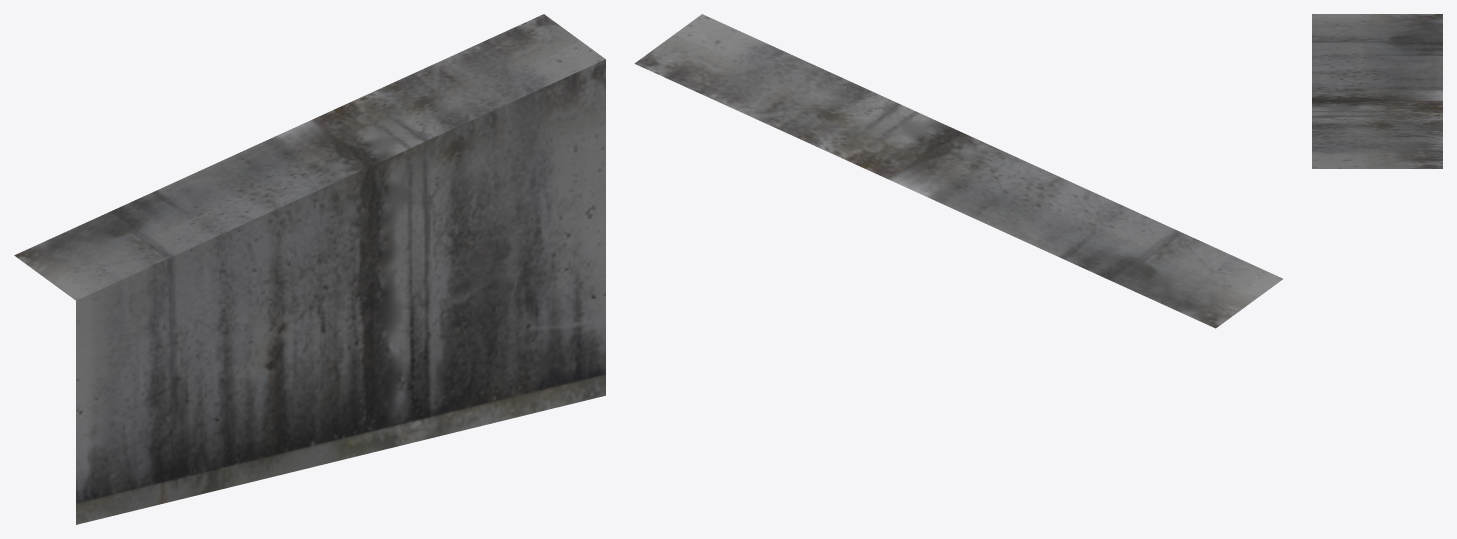
The model's file is tunel_lodni_zed_2_z.glb.
3 views of the same model, side by side, from view 1: azimuth 30°, elevation 25°; view 2: azimuth 150°, elevation 25°; view 3: azimuth 270°, elevation 25° (orthographic). The views are drawn at different scales.
Parts seen in each view (by area): view 1: tunel_lodni_zed_2_z; view 2: tunel_lodni_zed_2_z; view 3: tunel_lodni_zed_2_z.
Boxes of the visible parts, <box> form: tunel_lodni_zed_2_z: <box>14,14,605,524</box>; tunel_lodni_zed_2_z: <box>634,14,1282,328</box>; tunel_lodni_zed_2_z: <box>1312,14,1442,168</box>.
Bounding box in the file's own units: 4.95 × 3 × 1.
1 material, 1 textured.
